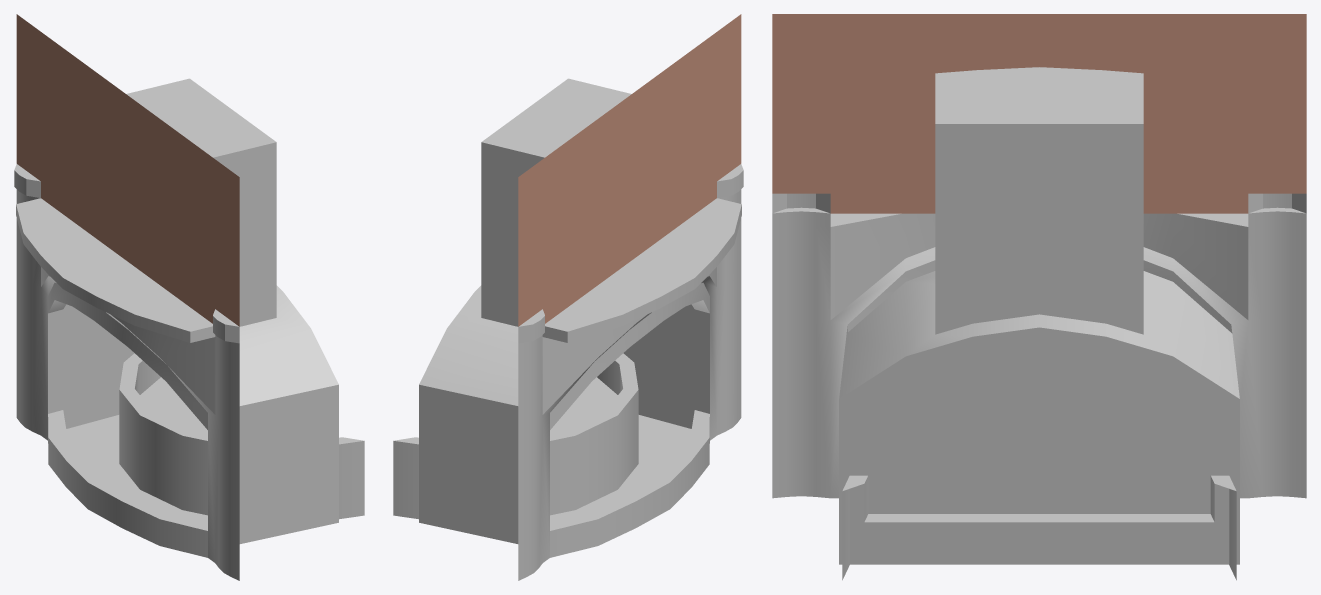
The model's file is Fireplace.fbx.
The picture shows the model from 3 angles, left to right: view 1: azimuth 30°, elevation 25°; view 2: azimuth 150°, elevation 25°; view 3: azimuth 270°, elevation 25°; orthographic projection. The views are drawn at different scales.
Parts seen in each view (by area): view 1: Fireplace; view 2: Fireplace; view 3: Fireplace.
Boxes of the visible parts, box(x1,y1,x2,y2) form: Fireplace: box(14, 14, 364, 580); Fireplace: box(393, 14, 743, 580); Fireplace: box(772, 14, 1306, 580).
Bounding box in the file's own units: 114 × 200 × 200.
